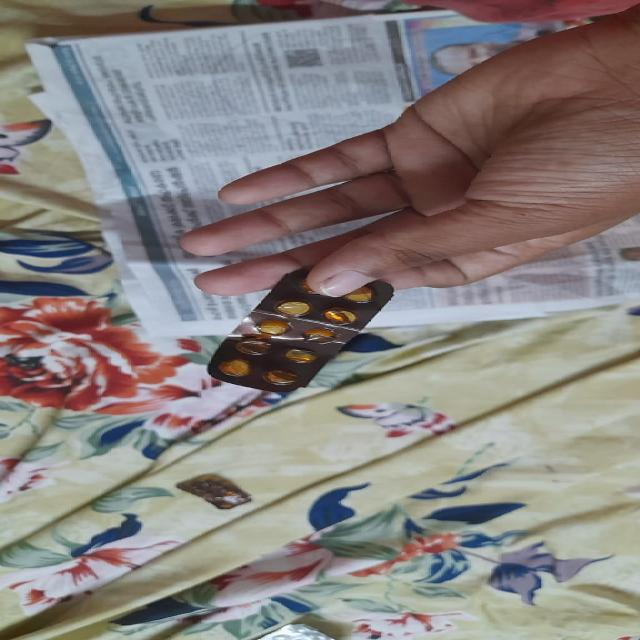Blister_Packs - Non Recyclable: (199, 256, 400, 414)
